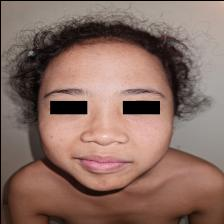DA: (54, 52, 146, 86), (130, 114, 170, 153), (43, 116, 74, 154)
